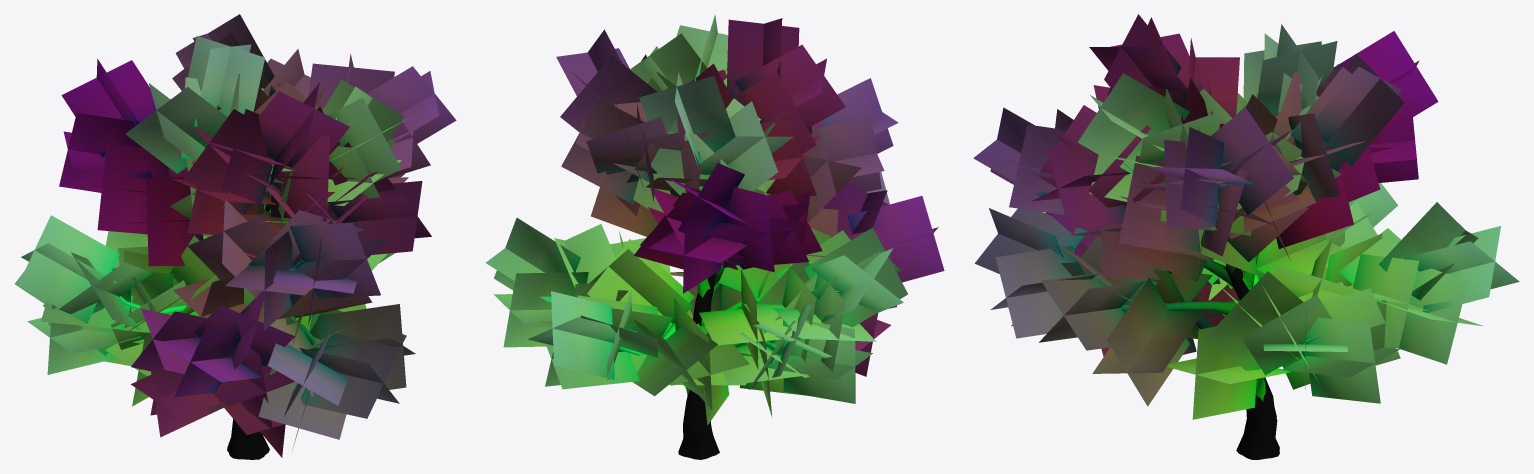
File: URP_Tree_1_LOD_1.fbx
3 views of the same model, side by side, from view 1: azimuth 30°, elevation 25°; view 2: azimuth 150°, elevation 25°; view 3: azimuth 270°, elevation 25° (orthographic). The views are drawn at different scales.
Visible parts, largest first — view 1: Tree_1_LOD_1; view 2: Tree_1_LOD_1; view 3: Tree_1_LOD_1.
Part boxes in pixels (<box>): Tree_1_LOD_1: <box>15,14,456,459</box>; Tree_1_LOD_1: <box>486,14,944,459</box>; Tree_1_LOD_1: <box>973,14,1519,459</box>.
Bounding box in the file's own units: 592 × 565 × 663.
